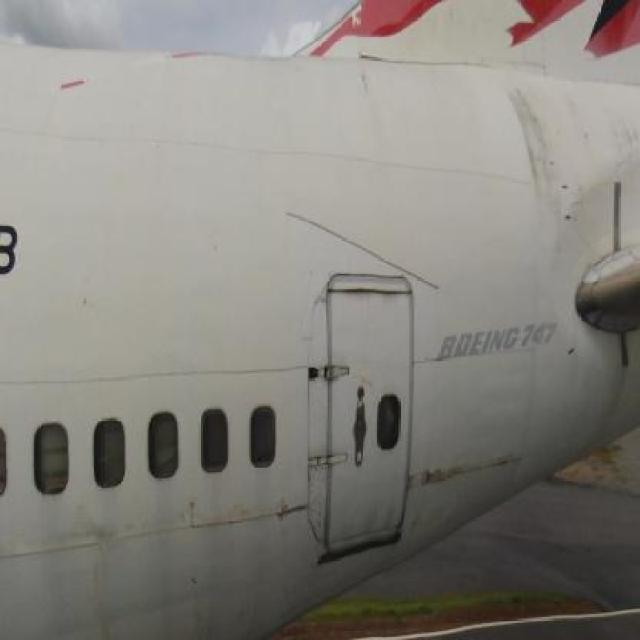Rust: (511, 85, 582, 209), (413, 447, 518, 495), (592, 81, 640, 168), (592, 348, 636, 429), (334, 279, 411, 307), (360, 498, 402, 547)
Scartch: (78, 506, 122, 583), (264, 482, 307, 530), (178, 494, 211, 546)
